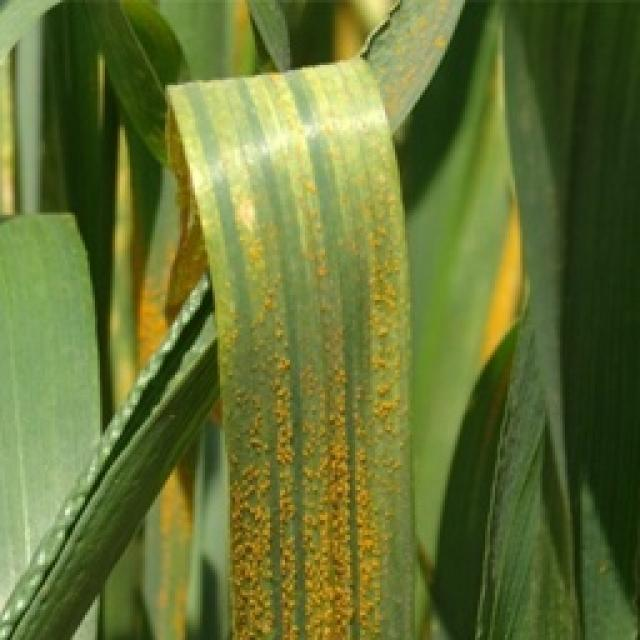Yellow Rust: (158, 55, 420, 637)
